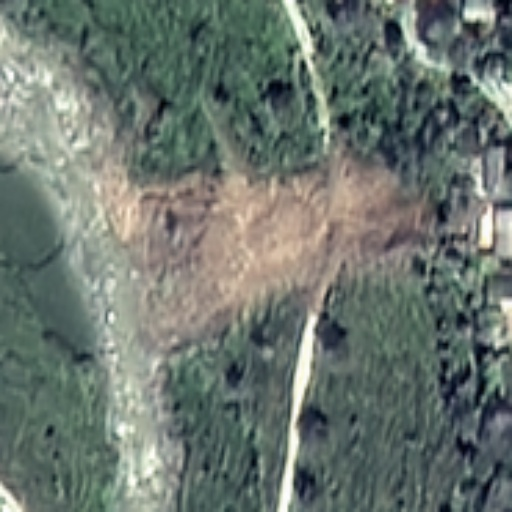landslide: (133, 169, 388, 303)
